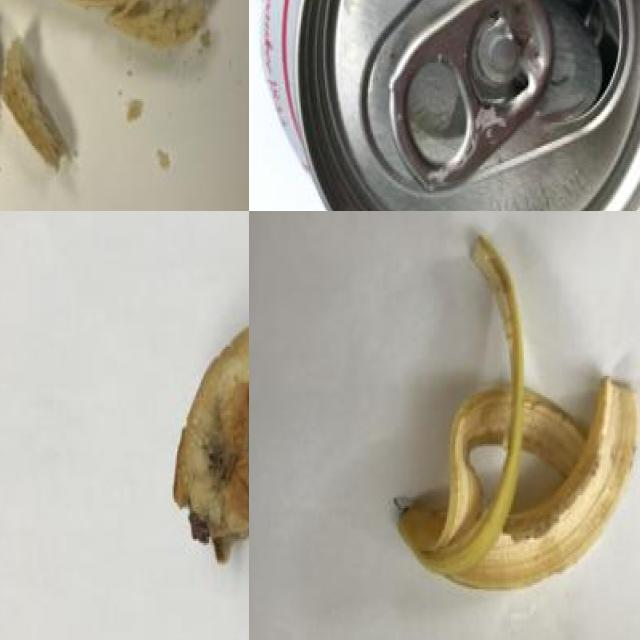compost: (386, 226, 640, 614), (0, 0, 230, 195), (149, 285, 249, 587)
plastic: (249, 0, 640, 211)
